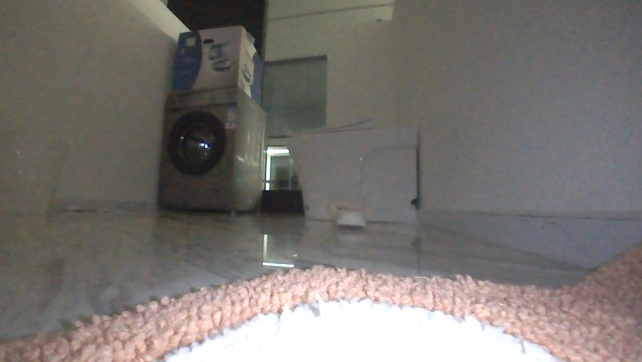blanket: (13, 249, 640, 360)
shoe: (325, 195, 375, 235)
toilet: (284, 119, 425, 228)
washing_machine: (150, 83, 270, 219)
